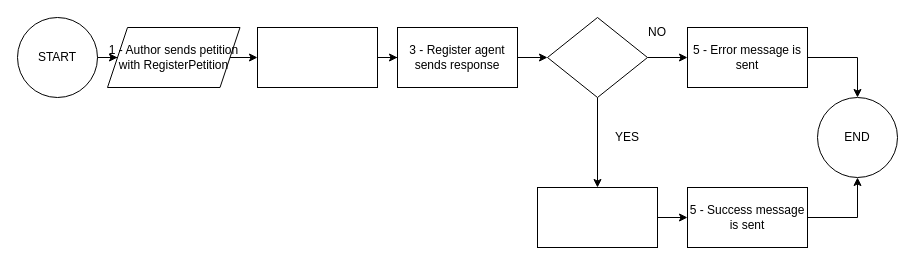
Some shapes in this 915 by 265 pixel diagram are drawn without their labels. The centre of each missing label's shape, as x and y in pixels:
2 - Author agent sends petition to register agent: the point at 317,57
4 - KeyPair with author's public key and register key is stored: the point at 597,217
Is response successful?: the point at 597,57
